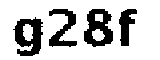2: (47, 8, 80, 49)
8: (85, 7, 115, 49)
f: (118, 6, 144, 48)
g: (8, 17, 44, 59)
